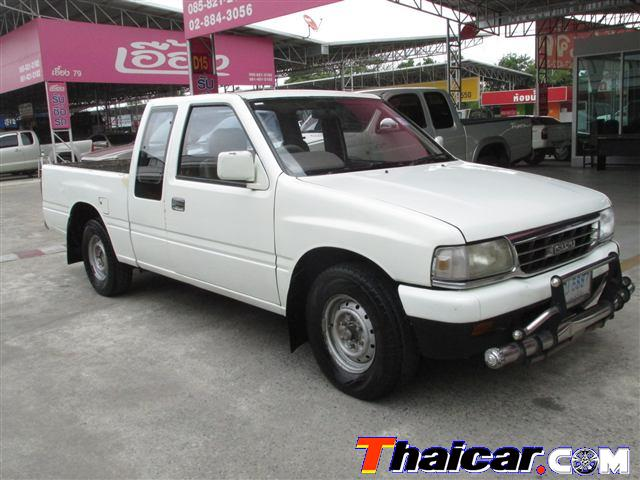pickup: (39, 88, 634, 398)
